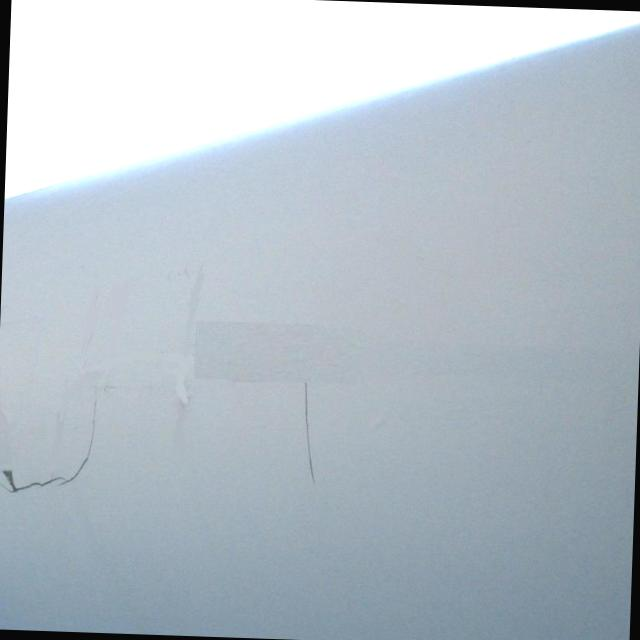crack: (0, 391, 99, 494), (296, 381, 319, 484)
